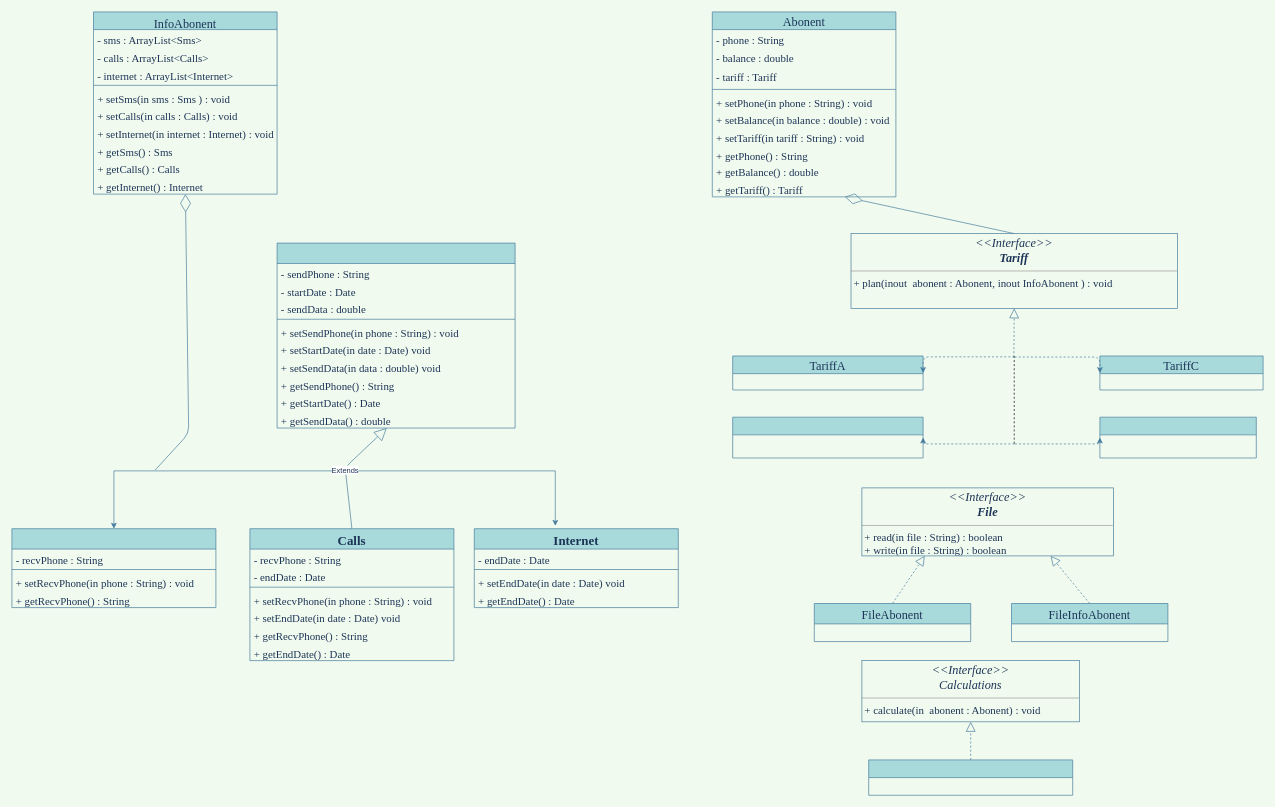
This 1275x807 diagram has some shape labels left out. The box of each missing label's shape, as (x1, y1, x2, y2) in pixels:
CalculateBalance: (868, 759, 1073, 795)
Connection: (276, 242, 515, 428)
SMS: (11, 528, 216, 608)
TariffB: (732, 417, 923, 458)
TariffD: (1099, 417, 1256, 458)
